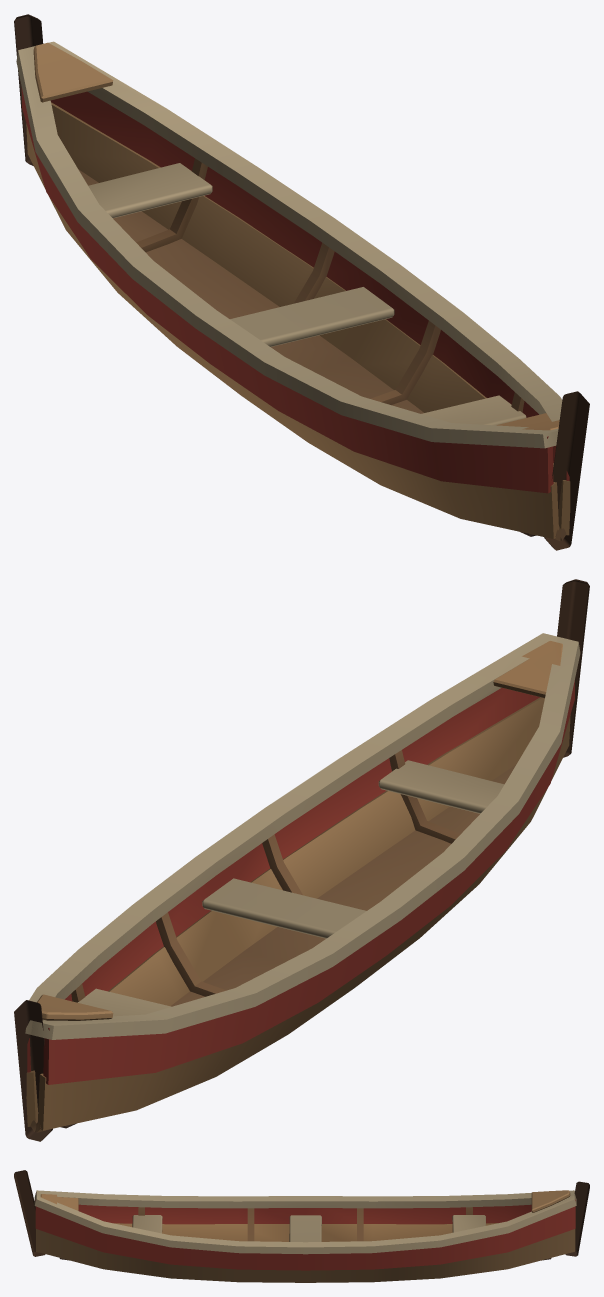
The model's file is canoe_lite.glb.
3 renders of one model, top to bottom at view 1: azimuth 30°, elevation 25°; view 2: azimuth 150°, elevation 25°; view 3: azimuth 270°, elevation 25°, orthographic. The views are drawn at different scales.
Visible parts, largest first — view 1: canoe_lite; view 2: canoe_lite; view 3: canoe_lite.
Part boxes in pixels (<box>): canoe_lite: <box>14,14,589,550</box>; canoe_lite: <box>14,579,589,1141</box>; canoe_lite: <box>14,1170,589,1282</box>.
Size of the model in its own units: 0.9798 by 0.888 by 4.64.
